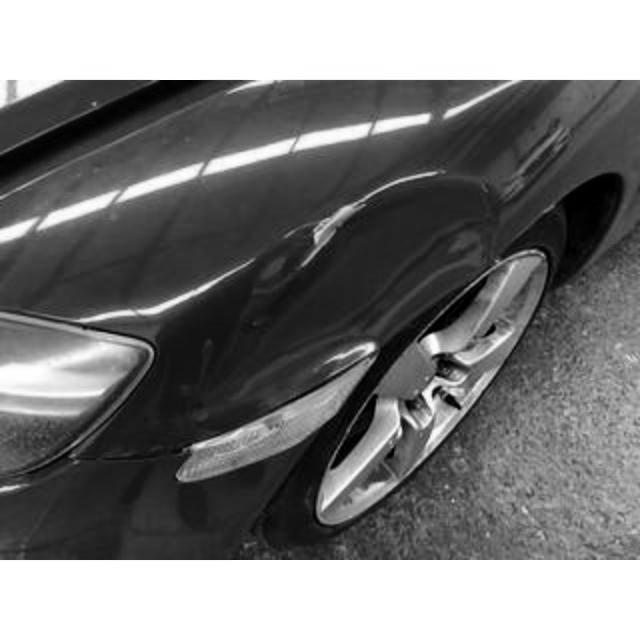fender-dent: (154, 80, 554, 386)
